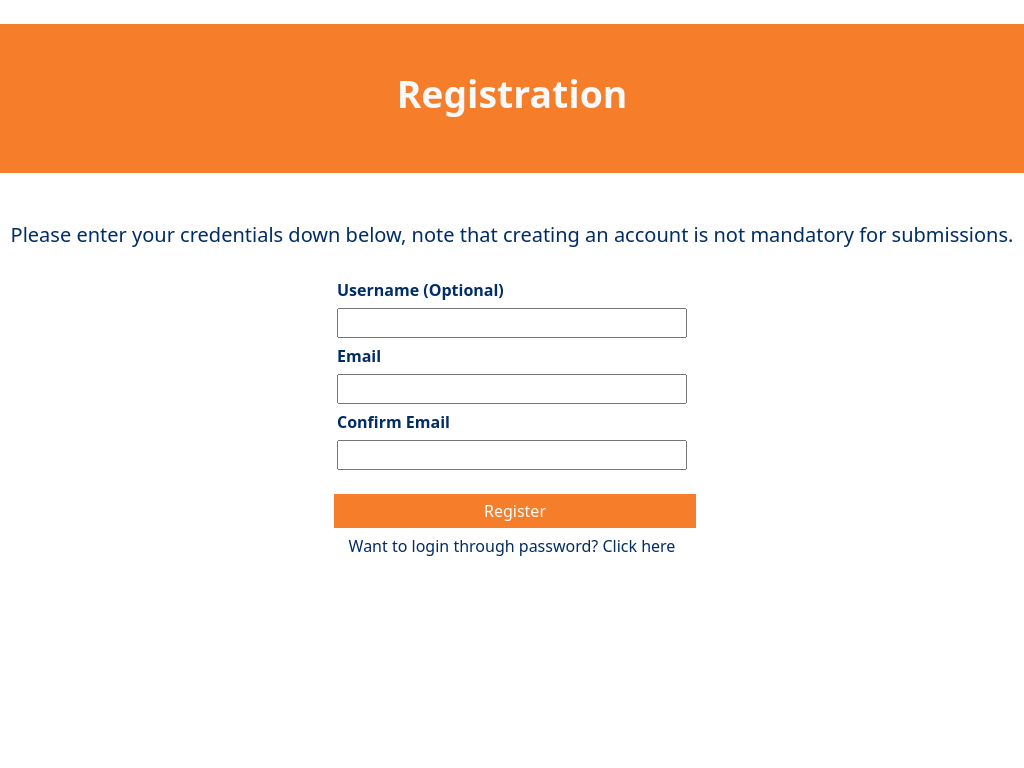
Scenario: RegisterForm fields visibility › displays password field when requested
The width and height of the screenshot is (1024, 768).
expect the number of fields is 3: met, box [337, 308, 687, 338]; [337, 374, 687, 404]; [337, 440, 687, 470]
Click 'Want to login through password? Click here'
Click the text "Want to login through password? Click here" at (512, 546), box [331, 534, 693, 558]
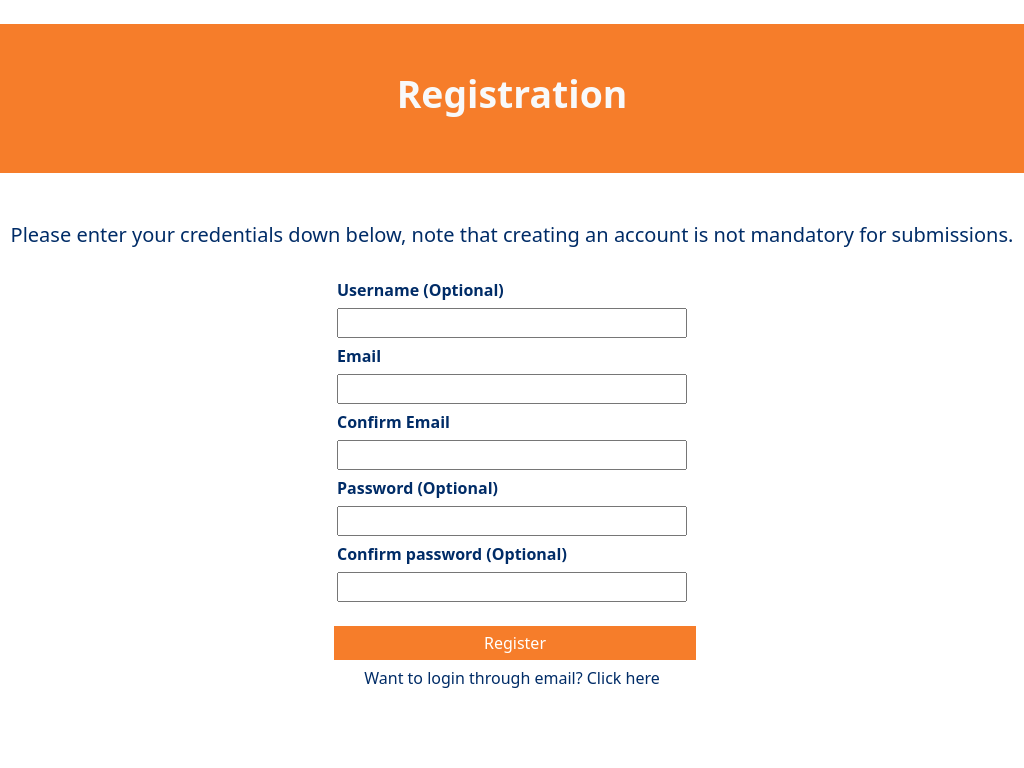
expect the text "Password (Optional)" is shown 2 times: met, box [337, 477, 498, 499]; [337, 543, 567, 565]
